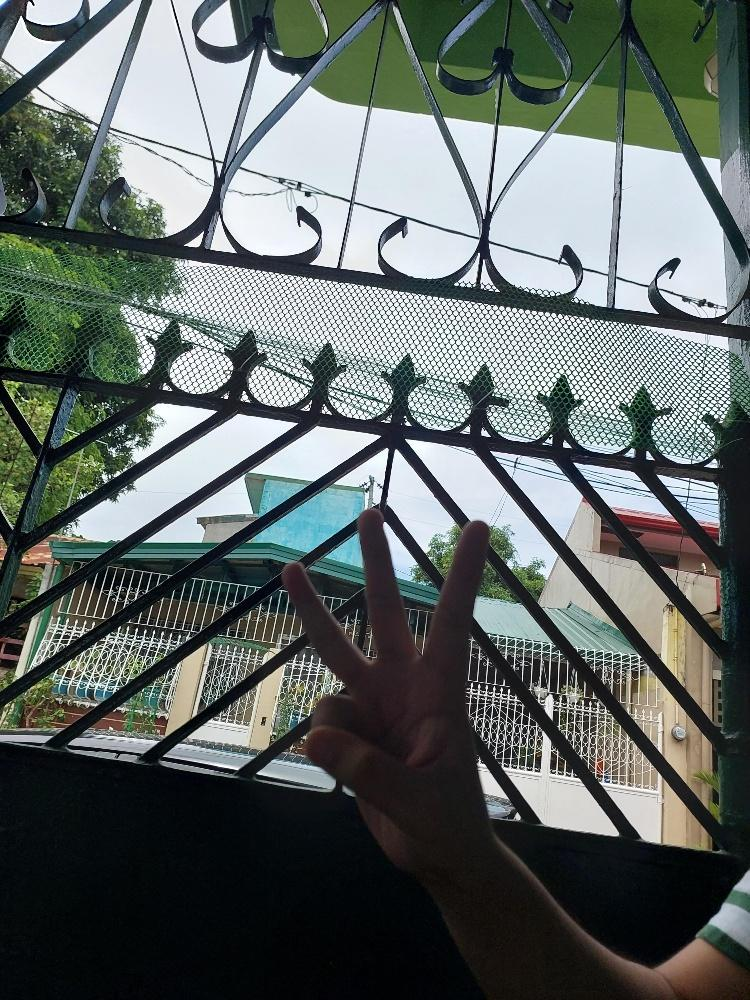w: (279, 500, 493, 876)
